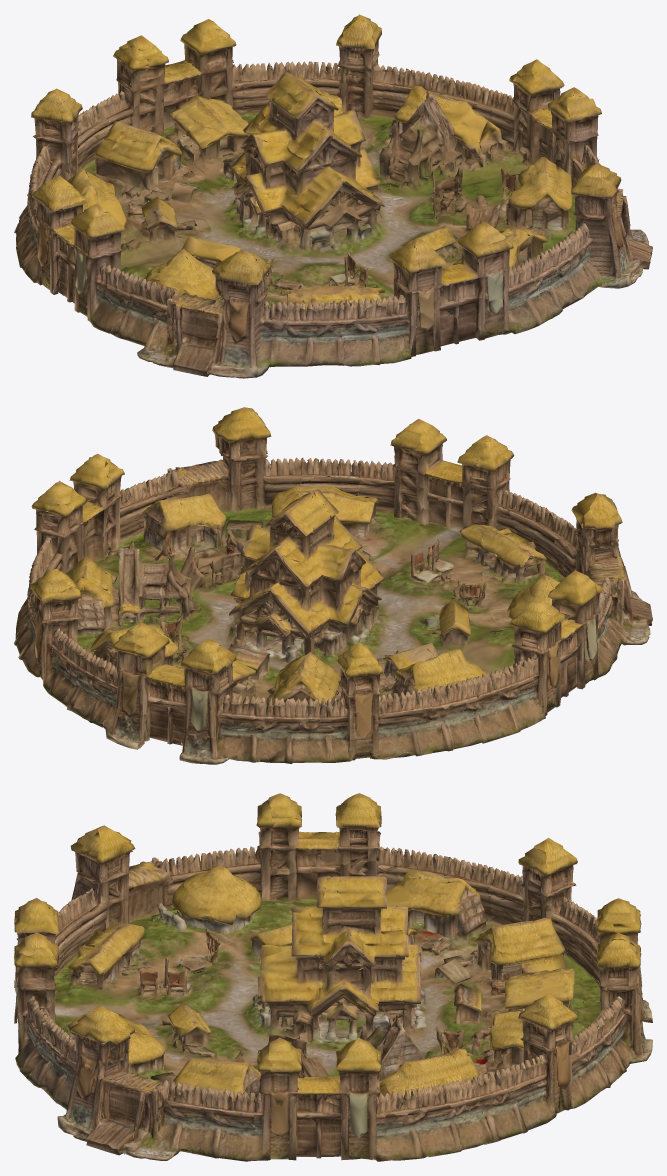
The model's file is Village_Gauls_L.glb.
The picture shows the model from 3 angles, top to bottom: view 1: azimuth 30°, elevation 25°; view 2: azimuth 150°, elevation 25°; view 3: azimuth 270°, elevation 25°; orthographic projection. The views are drawn at different scales.
Parts seen in each view (by area): view 1: Mesh_0; view 2: Mesh_0; view 3: Mesh_0.
Part boxes in pixels (box(x1,y1,x2,y2)): Mesh_0: box(14, 14, 652, 378); Mesh_0: box(14, 407, 652, 764); Mesh_0: box(14, 793, 652, 1161).
Bounding box in the file's own units: 1.86 × 0.5167 × 1.9.
1 material, 1 textured.
